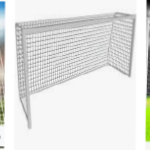goals: (13, 11, 138, 131)
